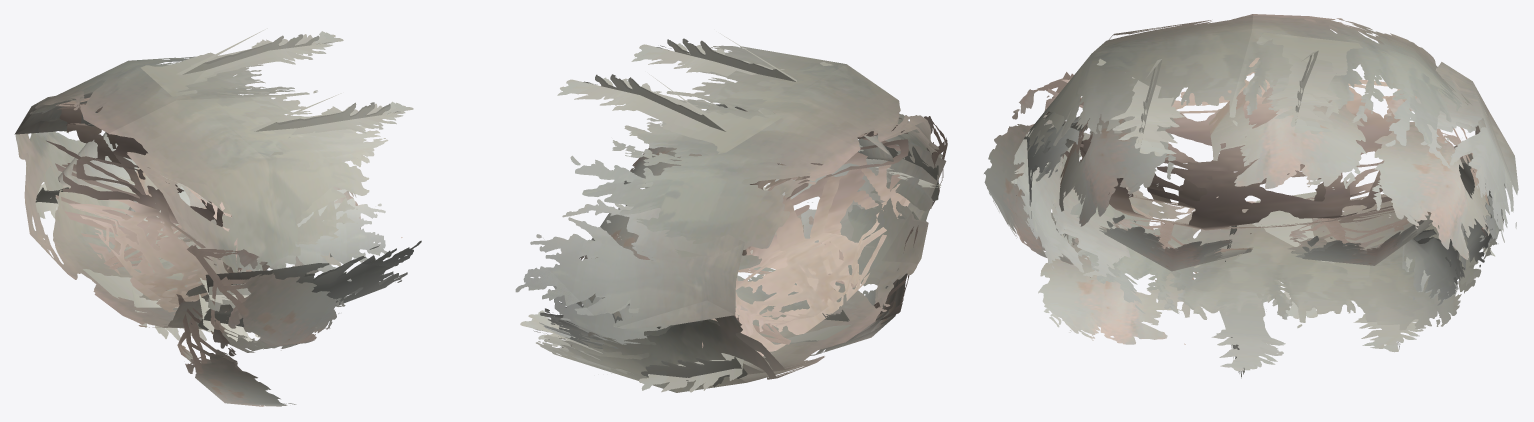
Rendered from props_foliage_shrub_03a.glb.
3 renders of one model, left to right at view 1: azimuth 30°, elevation 25°; view 2: azimuth 150°, elevation 25°; view 3: azimuth 270°, elevation 25°, orthographic. The views are drawn at different scales.
Visible parts, largest first — view 1: models/props_foliage/shrub_03a; view 2: models/props_foliage/shrub_03a; view 3: models/props_foliage/shrub_03a.
Part boxes in pixels (left/top/right/bottom): models/props_foliage/shrub_03a: left=14, top=28, right=421, bottom=406; models/props_foliage/shrub_03a: left=515, top=33, right=947, bottom=392; models/props_foliage/shrub_03a: left=984, top=14, right=1518, bottom=378.
Size of the model in its own units: 47.62 by 47.25 by 69.5.
Materials: 1 (1 with a texture image).
